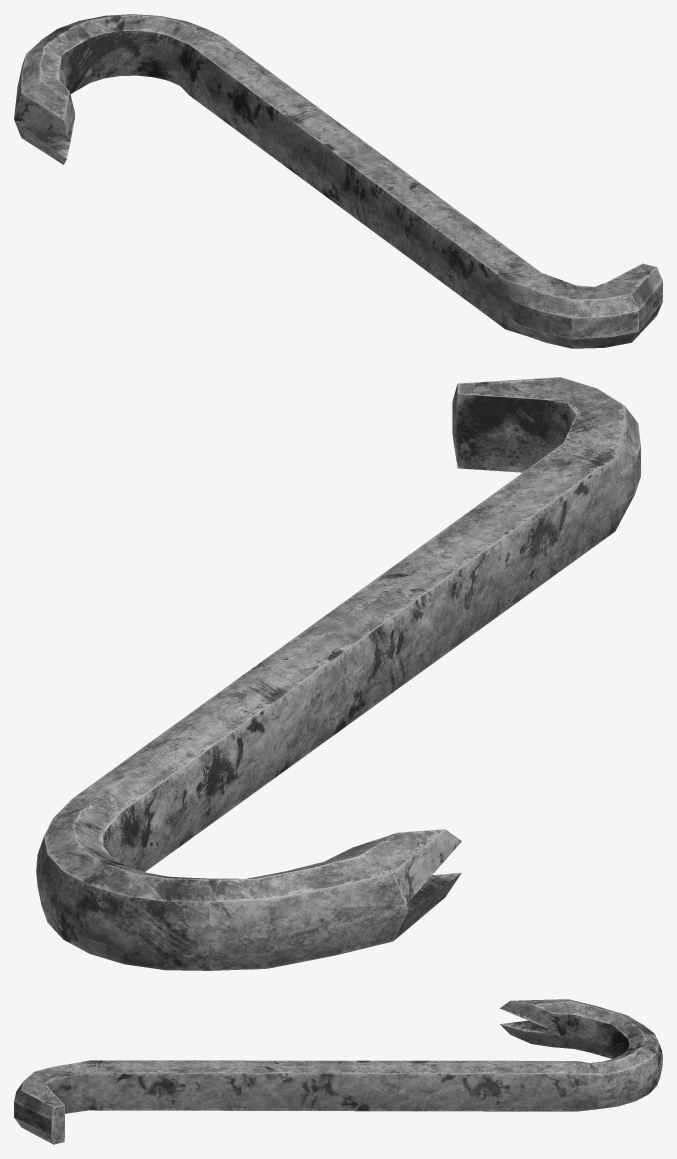
The model's file is Crowbar.fbx.
3 views of the same model, one above another, from view 1: azimuth 30°, elevation 25°; view 2: azimuth 150°, elevation 25°; view 3: azimuth 270°, elevation 25° (orthographic). The views are drawn at different scales.
Visible parts, largest first — view 1: Crowbar; view 2: Crowbar; view 3: Crowbar.
Boxes of the visible parts, x1,y1,x2,y2 form: Crowbar: [14, 14, 662, 348]; Crowbar: [36, 377, 640, 970]; Crowbar: [14, 999, 662, 1144].
Bounding box in the file's own units: 22.7 × 4.17 × 54.2.
